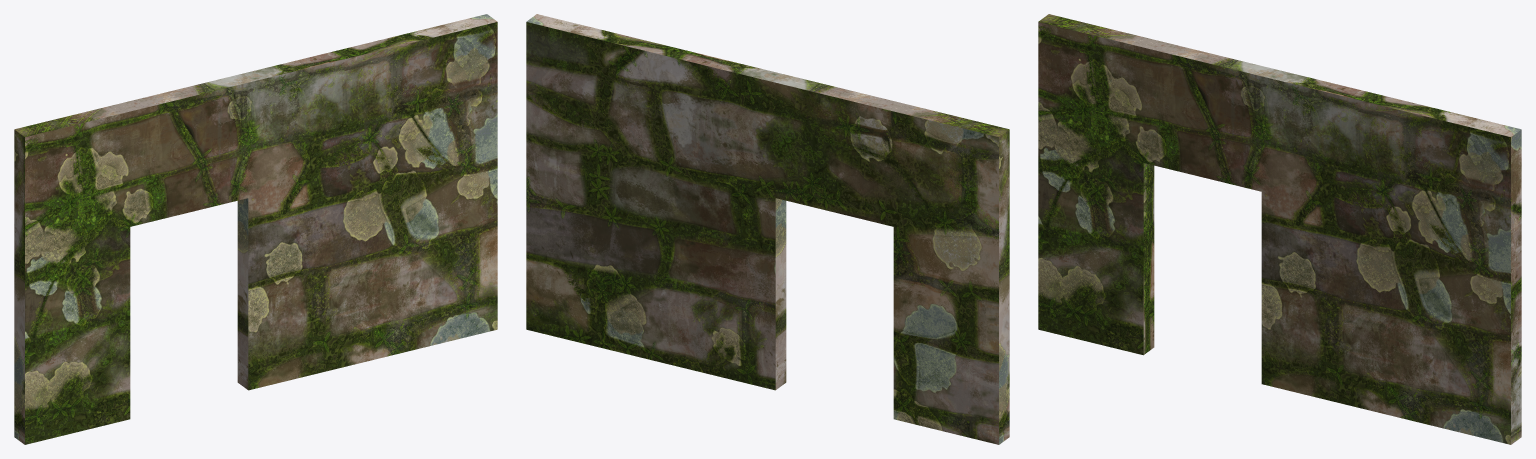
Rendered from SM_WallSideDoor.fbx.
3 views of the same model, side by side, from view 1: azimuth 30°, elevation 25°; view 2: azimuth 150°, elevation 25°; view 3: azimuth 330°, elevation 25° (orthographic).
Parts seen in each view (by area): view 1: SM_WallSideDoor_LOD0; view 2: SM_WallSideDoor_LOD0; view 3: SM_WallSideDoor_LOD0.
Boxes of the visible parts, <box> form: SM_WallSideDoor_LOD0: <box>14,14,497,444</box>; SM_WallSideDoor_LOD0: <box>526,14,1009,444</box>; SM_WallSideDoor_LOD0: <box>1038,14,1521,444</box>.
Size of the model in its own units: 703 by 27.61 by 437.
Materials: 1 (1 with a texture image).
